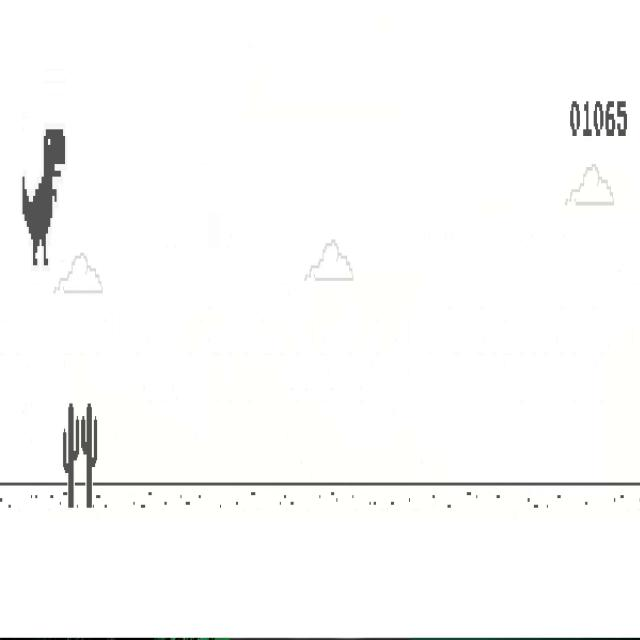cacto: (62, 402, 80, 509), (80, 402, 98, 509)
dino: (22, 127, 65, 267)
